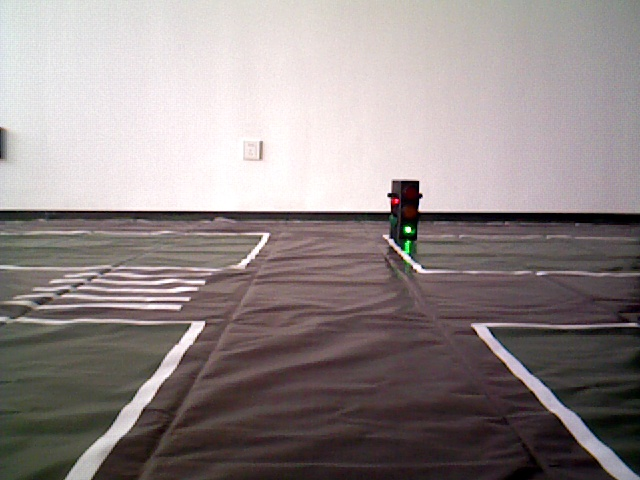green: (392, 181, 417, 243)
